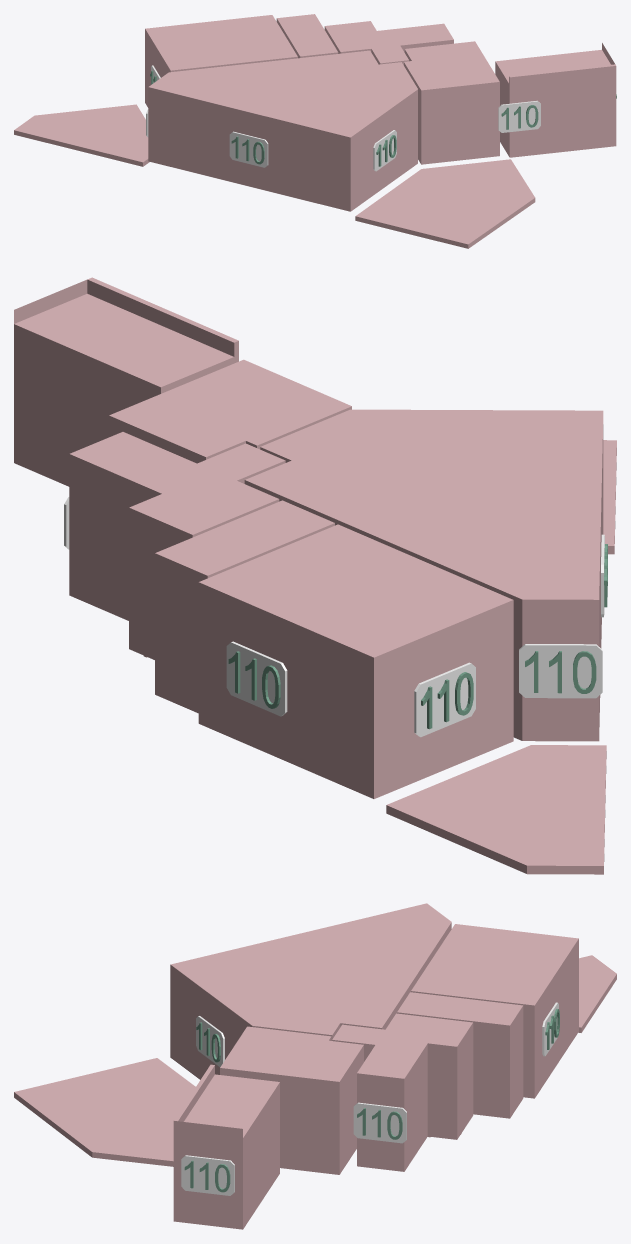
3 renders of one model, top to bottom at view 1: azimuth 30°, elevation 25°; view 2: azimuth 150°, elevation 25°; view 3: azimuth 270°, elevation 25°, orthographic. The views are drawn at different scales.
Visible parts, largest first — view 1: g_0, g_5, g_6, g_4, g_1, g_7, g_3, g_2, g_11, g_31, g_19; view 2: g_1, g_0, g_5, g_3, g_7, g_4, g_2, g_27, g_23, g_15, g_6; view 3: g_0, g_3, g_1, g_4, g_5, g_6, g_2, g_7, g_35, g_39, g_19.
Boxes of the visible parts, x1,y1,x2,y2 form: g_0: (148, 50, 417, 211); g_5: (495, 43, 616, 157); g_6: (355, 159, 535, 248); g_4: (404, 41, 499, 164); g_1: (145, 15, 297, 107); g_7: (14, 104, 149, 166); g_3: (324, 21, 453, 65); g_2: (276, 14, 338, 58); g_11: (498, 100, 540, 132); g_31: (229, 131, 268, 167); g_19: (373, 130, 396, 171); g_1: (198, 524, 513, 798); g_0: (244, 409, 603, 741); g_5: (14, 277, 238, 486); g_3: (69, 432, 285, 659); g_7: (386, 745, 606, 874); g_4: (109, 359, 351, 463); g_2: (155, 500, 334, 713); g_27: (519, 644, 602, 698); g_23: (226, 641, 287, 716); g_15: (414, 662, 475, 737); g_6: (603, 440, 616, 554); g_0: (170, 903, 451, 1079); g_3: (332, 1013, 473, 1171); g_1: (411, 924, 578, 1098); g_4: (220, 1026, 363, 1174); g_5: (173, 1064, 279, 1229); g_6: (14, 1058, 195, 1166); g_2: (397, 992, 523, 1118); g_7: (578, 955, 616, 1032); g_35: (181, 1155, 234, 1195); g_39: (353, 1102, 406, 1143); g_19: (196, 1016, 224, 1066).
Size of the model in its own units: 15.79 by 2.85 by 14.64.
